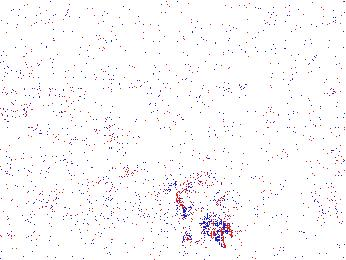flame jellyfish: (175, 170, 235, 250), (120, 134, 177, 199)
